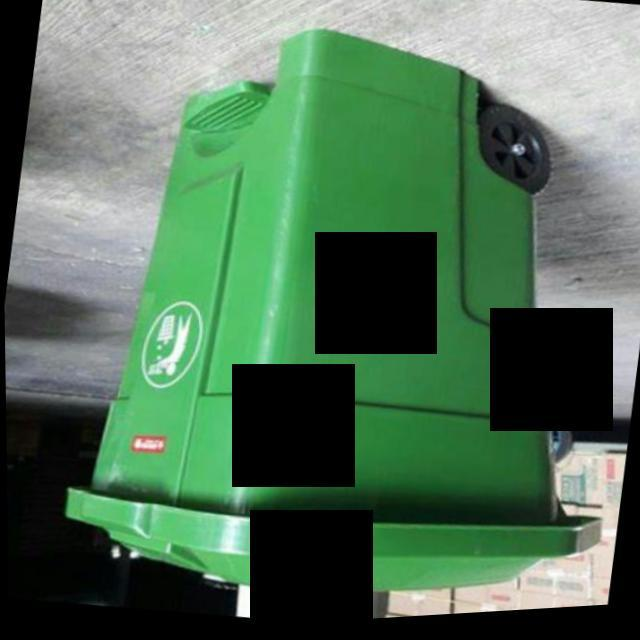bin: (23, 0, 640, 639)
